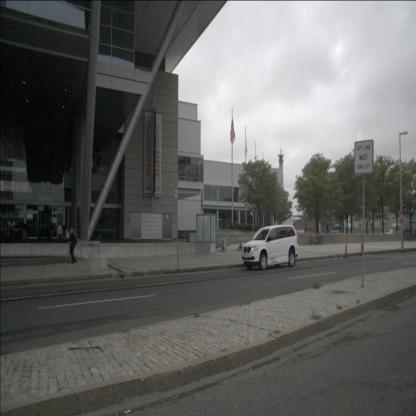human-pedestrian-adult: (67, 228, 78, 263), (57, 223, 63, 247), (63, 228, 71, 246), (9, 220, 14, 245), (326, 222, 329, 237)
movable_object-barrier: (220, 238, 228, 252), (238, 237, 244, 252)
movable_object-trafficcone: (343, 236, 349, 258), (360, 233, 364, 256), (401, 234, 405, 252)
vehicle-bicycle: (310, 232, 320, 246), (315, 232, 323, 245)
vehicle-car: (242, 216, 302, 270), (384, 229, 395, 238)
